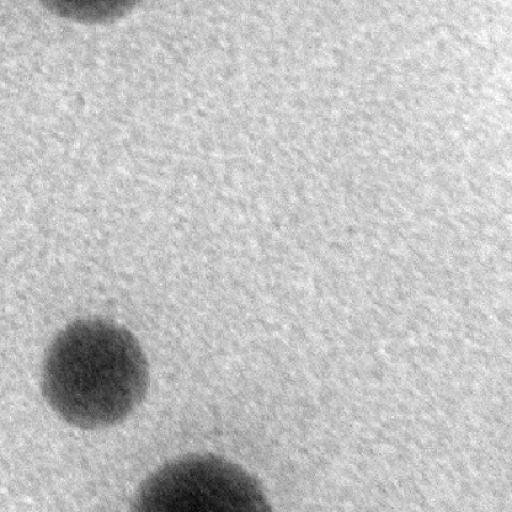Nanoparticles: (39, 315, 151, 427), (133, 453, 271, 511), (42, 0, 142, 23)
